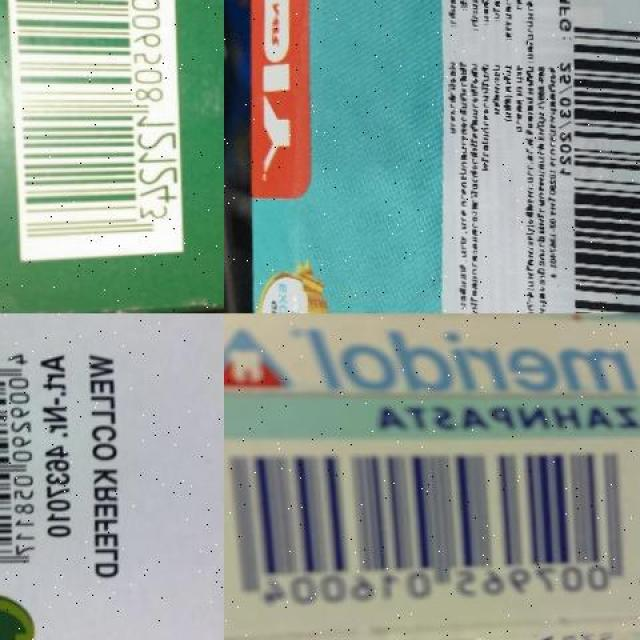Barcode: (224, 440, 640, 617), (1, 0, 181, 261), (554, 11, 640, 313), (0, 344, 37, 572)
